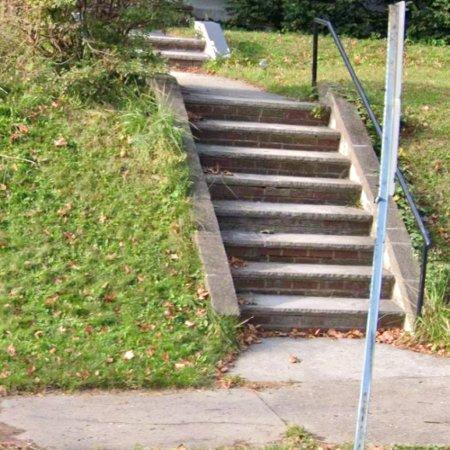stairs: (180, 81, 375, 329)
